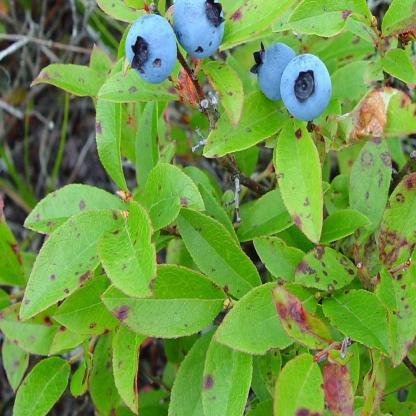Blueberry leaf: (20, 175, 158, 334), (100, 260, 230, 342), (172, 200, 264, 295), (216, 278, 322, 360), (310, 265, 398, 362), (200, 85, 297, 171), (337, 112, 396, 250), (98, 324, 164, 414), (93, 69, 136, 198), (14, 350, 95, 416), (195, 53, 257, 132), (199, 324, 250, 416), (277, 1, 372, 40), (28, 63, 103, 104), (134, 96, 166, 188)
